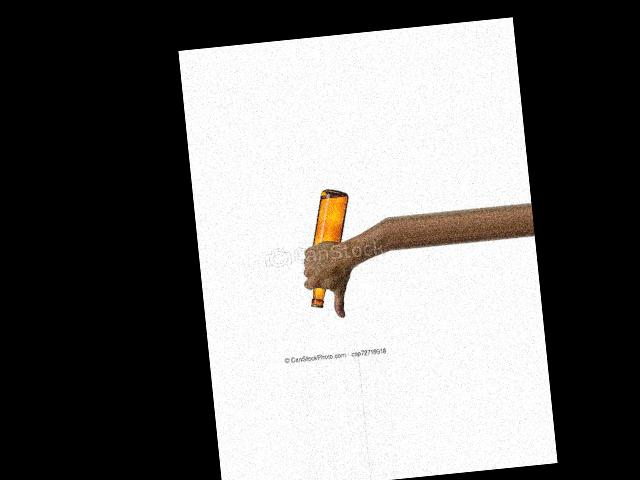beer: (300, 188, 359, 307)
